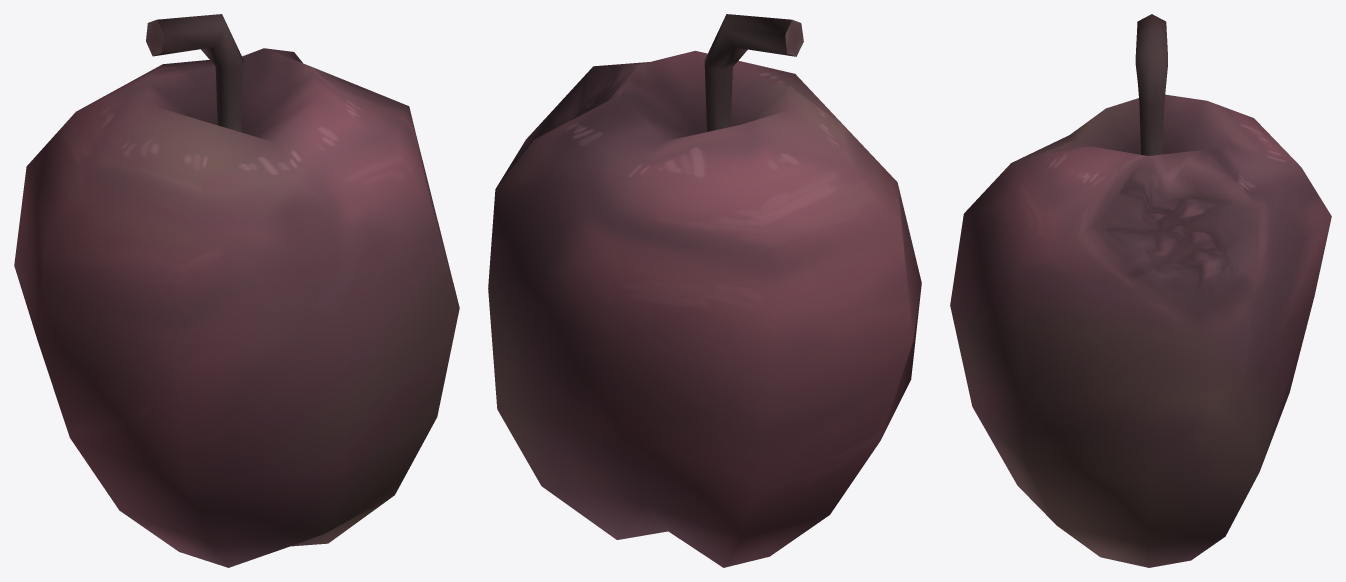
The model's file is rottenApple.fbx.
The picture shows the model from 3 angles, left to right: view 1: azimuth 30°, elevation 25°; view 2: azimuth 150°, elevation 25°; view 3: azimuth 270°, elevation 25°; orthographic projection. The views are drawn at different scales.
Parts seen in each view (by area): view 1: rotten; view 2: rotten; view 3: rotten.
Part boxes in pixels (left/top/right/bottom): rotten: left=14, top=14, right=459, bottom=567; rotten: left=488, top=14, right=921, bottom=567; rotten: left=950, top=14, right=1331, bottom=567.
Size of the model in its own units: 0.5768 by 0.7584 by 0.5452.
